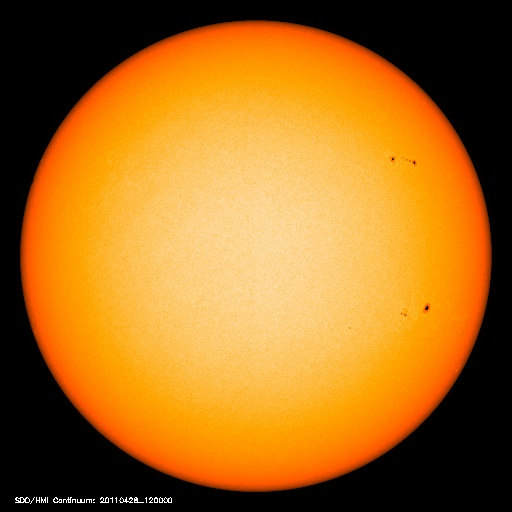sunspot: (390, 295, 440, 324), (379, 149, 426, 175)
